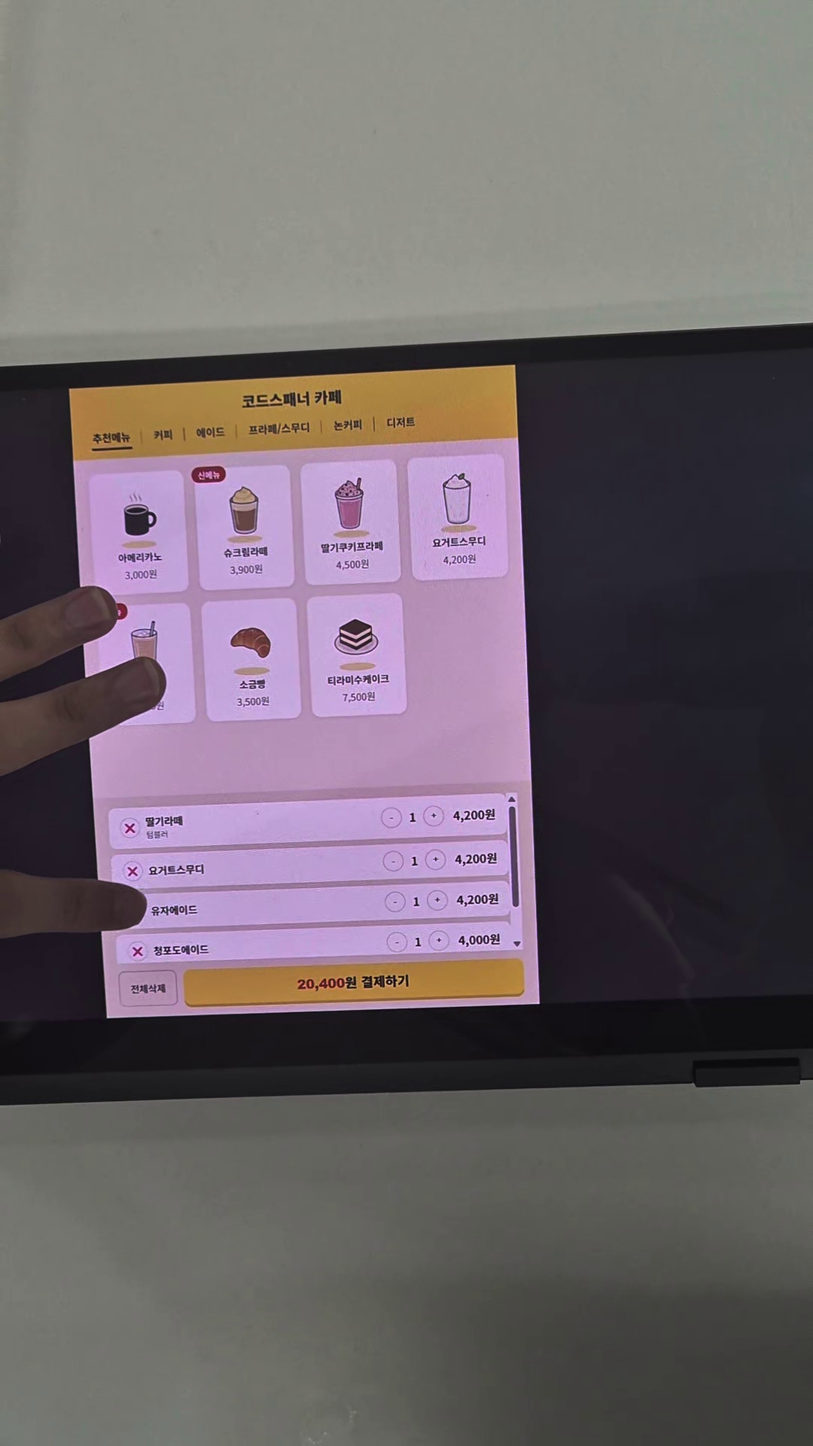action_button: (184, 958, 524, 1007), (119, 969, 178, 1007)
cart_item: (109, 793, 508, 850), (110, 840, 509, 890), (115, 881, 511, 930), (116, 921, 512, 965)
category_tab: (248, 421, 310, 436), (92, 430, 131, 445), (333, 418, 362, 432), (386, 416, 416, 429), (196, 426, 225, 439), (154, 428, 173, 442)
menu_back: (408, 454, 509, 582), (300, 459, 402, 585), (194, 465, 295, 591), (89, 470, 189, 597), (306, 592, 407, 717), (97, 603, 197, 729), (202, 597, 302, 721)
menu_name: (320, 540, 384, 555), (327, 673, 390, 686), (432, 535, 487, 549), (223, 546, 268, 559), (117, 551, 163, 563), (239, 679, 266, 690)
menu_price: (341, 691, 377, 704), (335, 558, 370, 571), (442, 553, 477, 566), (229, 563, 263, 576), (235, 696, 270, 708), (124, 569, 158, 581)
